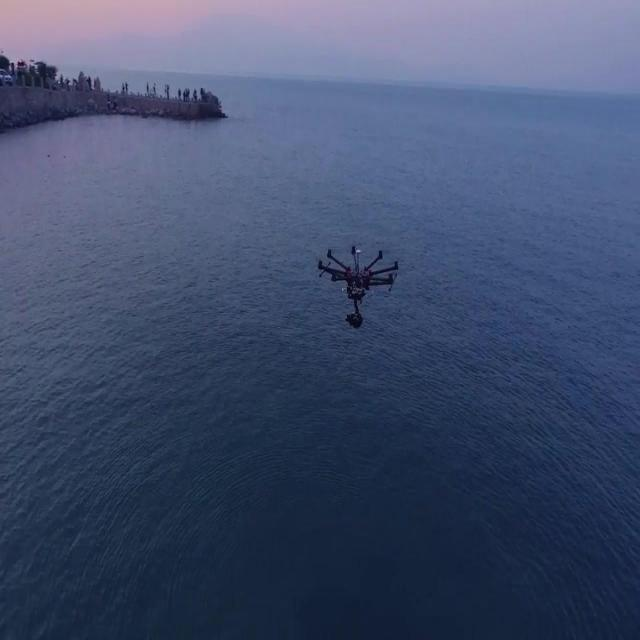UAV: (317, 245, 399, 330)
